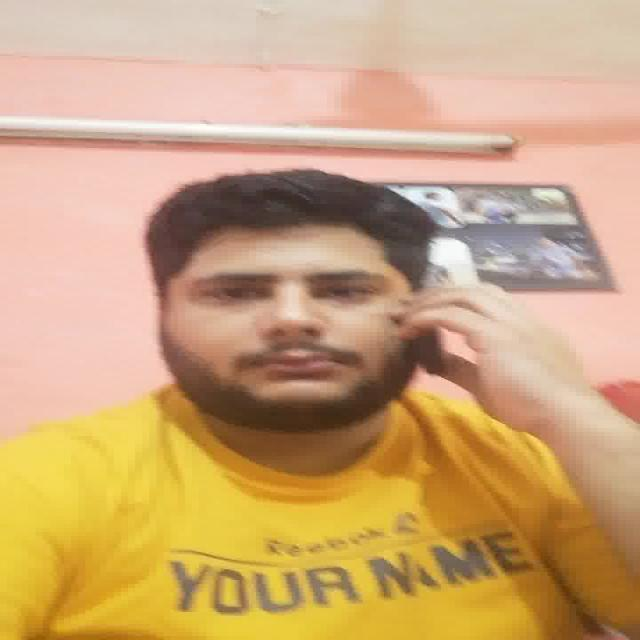Phone: (414, 320, 446, 380)
